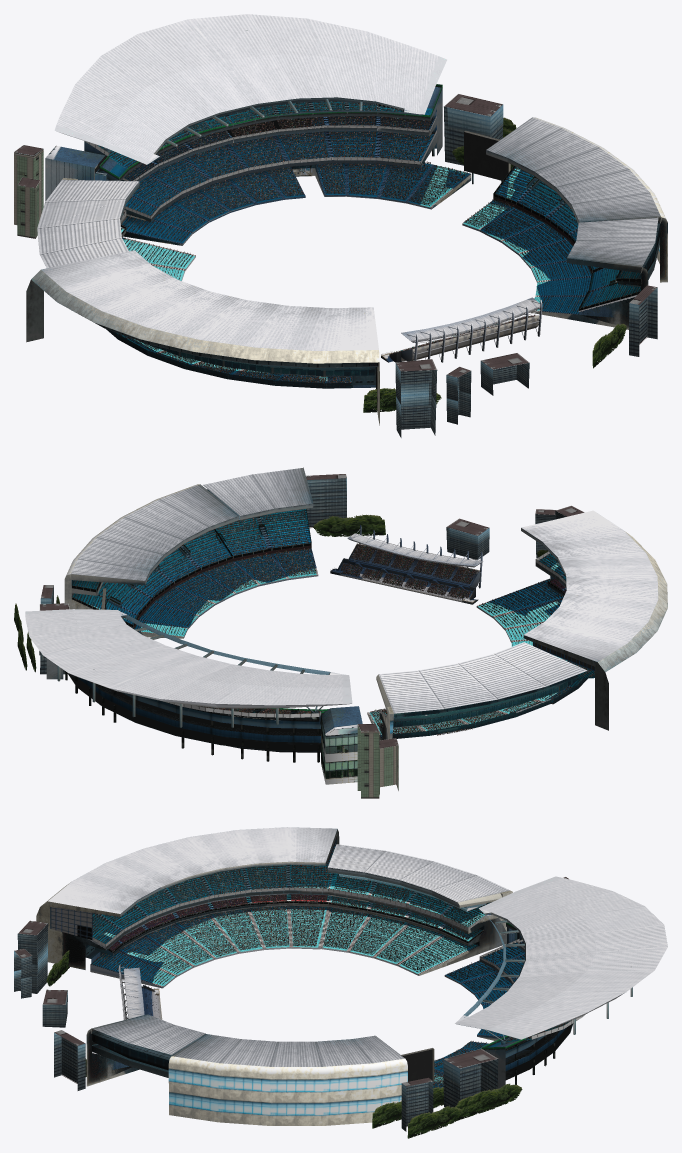
Rendered from mesh_SCG_TB.fbx.
3 views of the same model, one above another, from view 1: azimuth 30°, elevation 25°; view 2: azimuth 150°, elevation 25°; view 3: azimuth 270°, elevation 25° (orthographic). The views are drawn at different scales.
Parts seen in each view (by area): view 1: Lift01, geo_Stadium02.003, geo_Stadium02.002, geo_Stadium01.001, geo_Audience_High.001, geo_Stadium01.002, geo_Stadium01.006, geo_BG_Buildings.002, geo_Stadium02.006, geo_Stadium02.005, geo_Audience_High.006, geo_Stadium03.003 (+10 smaller); view 2: Lift01, geo_Stadium02.003, geo_Stadium02.002, geo_Stadium01.002, geo_Stadium02.005, geo_Audience_High.002, geo_Stadium02.006, geo_BG_Buildings.002, geo_Stadium_Alpha.006, geo_Stadium01.003, geo_Audience_High.004, geo_Stadium04_1 (+11 smaller); view 3: Lift01, geo_Stadium02.003, geo_Stadium01.003, geo_Stadium03.002, geo_Audience_High.003, geo_Stadium02.002, geo_Stadium01.005, geo_Stadium02.005, geo_Audience_High.005, geo_BG_Buildings.001, geo_BG_Buildings.002, geo_Stadium_Alpha.003 (+9 smaller).
Part boxes in pixels (bbox=[...]): Lift01: bbox=[54, 14, 446, 164]; geo_Stadium02.003: bbox=[26, 250, 379, 425]; geo_Stadium02.002: bbox=[462, 117, 667, 329]; geo_Stadium01.001: bbox=[226, 101, 470, 207]; geo_Audience_High.001: bbox=[229, 101, 467, 205]; geo_Stadium01.002: bbox=[462, 167, 641, 314]; geo_Stadium01.006: bbox=[98, 110, 269, 243]; geo_BG_Buildings.002: bbox=[363, 285, 657, 437]; geo_Stadium02.006: bbox=[45, 87, 471, 245]; geo_Stadium02.005: bbox=[37, 178, 195, 280]; geo_Audience_High.006: bbox=[97, 109, 268, 241]; geo_Stadium03.003: bbox=[31, 270, 379, 363]; Lift01: bbox=[25, 609, 352, 708]; geo_Stadium02.003: bbox=[476, 510, 658, 730]; geo_Stadium02.002: bbox=[64, 467, 318, 638]; geo_Stadium01.002: bbox=[73, 509, 318, 636]; geo_Stadium02.005: bbox=[367, 642, 587, 740]; geo_Audience_High.002: bbox=[74, 510, 316, 634]; geo_Stadium02.006: bbox=[46, 658, 362, 751]; geo_BG_Buildings.002: bbox=[306, 474, 584, 559]; geo_Stadium_Alpha.006: bbox=[78, 677, 328, 742]; geo_Stadium01.003: bbox=[477, 553, 594, 704]; geo_Audience_High.004: bbox=[340, 544, 477, 599]; geo_Stadium04_1: bbox=[330, 525, 482, 604]; Lift01: bbox=[455, 876, 667, 1039]; geo_Stadium02.003: bbox=[36, 827, 339, 988]; geo_Stadium01.003: bbox=[91, 846, 335, 986]; geo_Stadium03.002: bbox=[168, 1056, 407, 1125]; geo_Audience_High.003: bbox=[92, 845, 335, 984]; geo_Stadium02.002: bbox=[86, 1014, 404, 1086]; geo_Stadium01.005: bbox=[321, 873, 490, 974]; geo_Stadium02.005: bbox=[320, 844, 512, 975]; geo_Audience_High.005: bbox=[323, 874, 491, 972]; geo_BG_Buildings.001: bbox=[372, 1048, 522, 1138]; geo_BG_Buildings.002: bbox=[14, 920, 86, 1090]; geo_Stadium_Alpha.003: bbox=[50, 836, 336, 952].
Size of the model in its own units: 40236 by 7313 by 43440.
